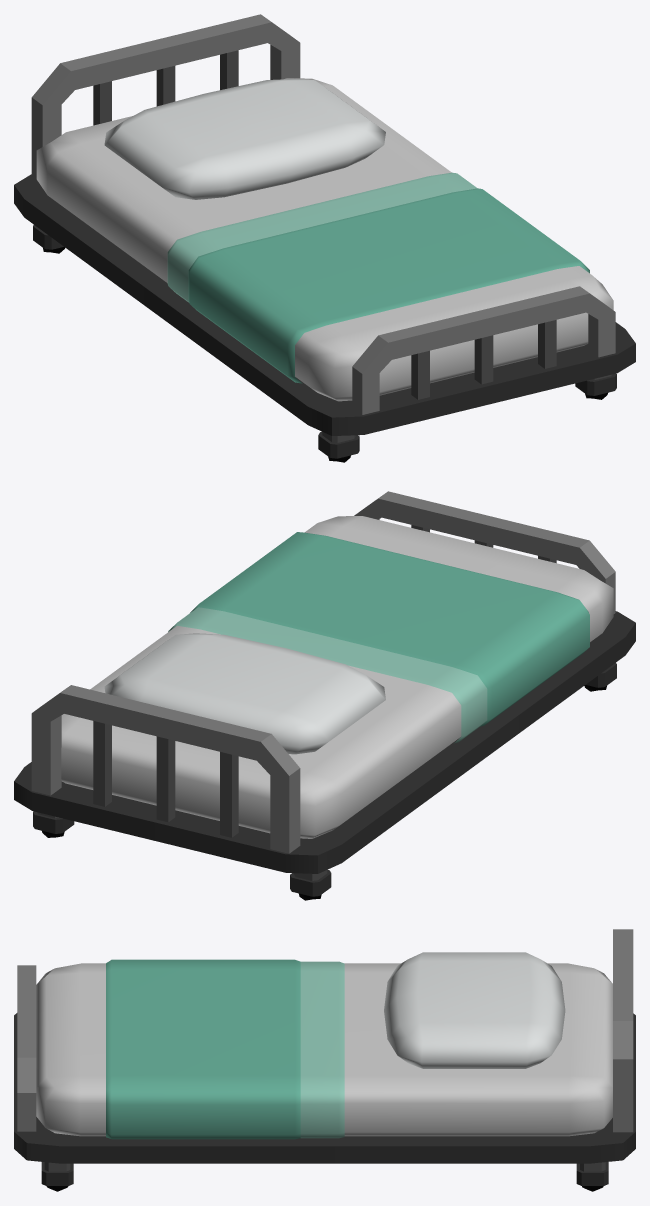
The model's file is Bed 01.fbx.
The picture shows the model from 3 angles, top to bottom: view 1: azimuth 30°, elevation 25°; view 2: azimuth 150°, elevation 25°; view 3: azimuth 270°, elevation 25°; orthographic projection. The views are drawn at different scales.
Parts seen in each view (by area): view 1: Bed_01; view 2: Bed_01; view 3: Bed_01.
Part boxes in pixels (x1,y1,x2,y2): Bed_01: [14, 14, 635, 462]; Bed_01: [14, 491, 635, 900]; Bed_01: [14, 929, 635, 1191].
Size of the model in its own units: 134 by 66.72 by 242.
